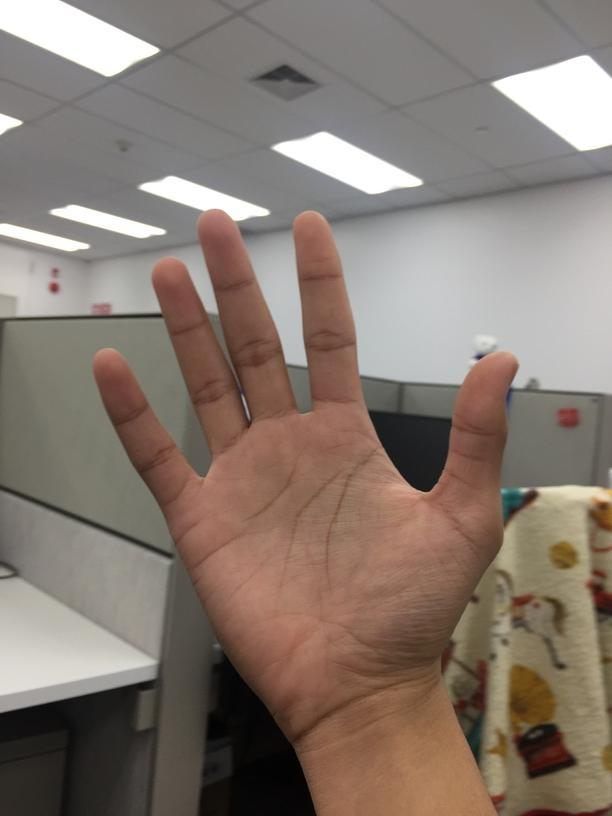hand: (89, 209, 521, 692)
